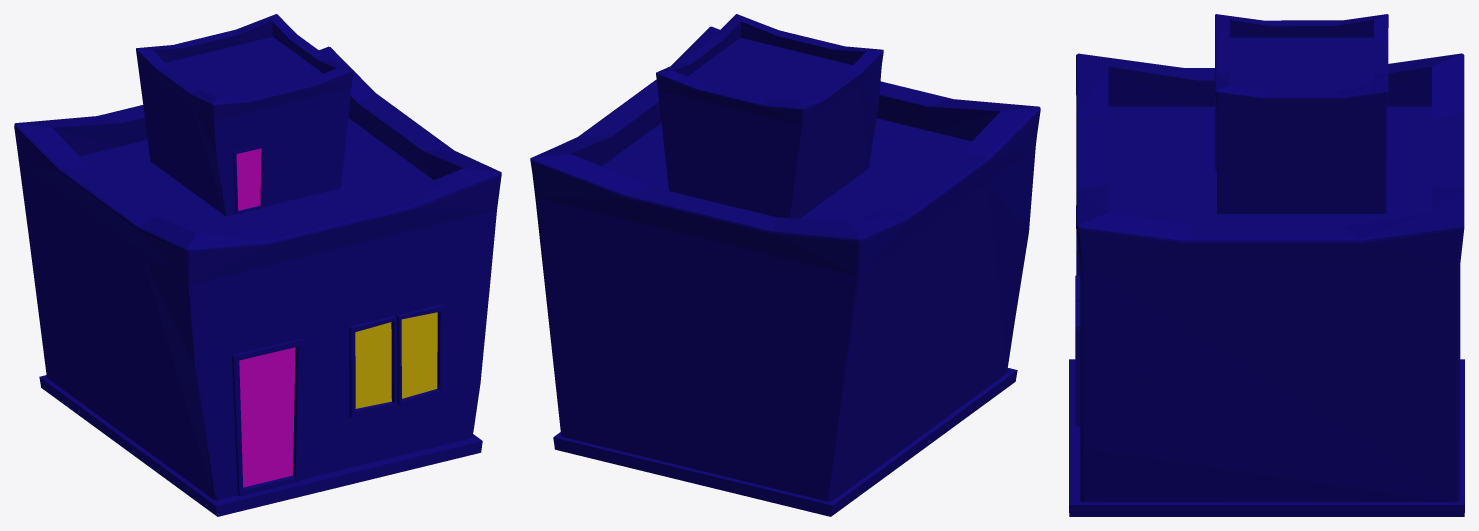
File: house3.FBX
3 views of the same model, side by side, from view 1: azimuth 30°, elevation 25°; view 2: azimuth 150°, elevation 25°; view 3: azimuth 270°, elevation 25° (orthographic). The views are drawn at different scales.
Visible parts, largest first — view 1: LOW POLY003; view 2: LOW POLY003; view 3: LOW POLY003.
Part boxes in pixels (box(x1,y1,x2,y2)): LOW POLY003: box(14, 14, 501, 516); LOW POLY003: box(530, 14, 1040, 516); LOW POLY003: box(1069, 14, 1464, 516).
Size of the model in its own units: 8.64 by 9.11 by 8.33.
